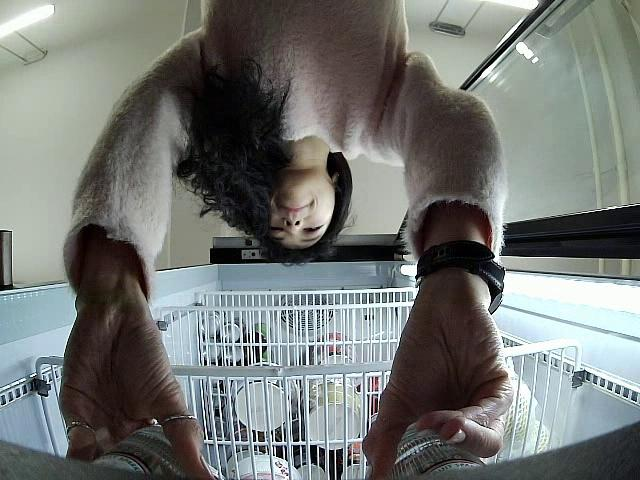00_hand: (58, 299, 216, 480), (361, 304, 513, 480)
18_trevi: (369, 410, 488, 480), (91, 422, 191, 480)
